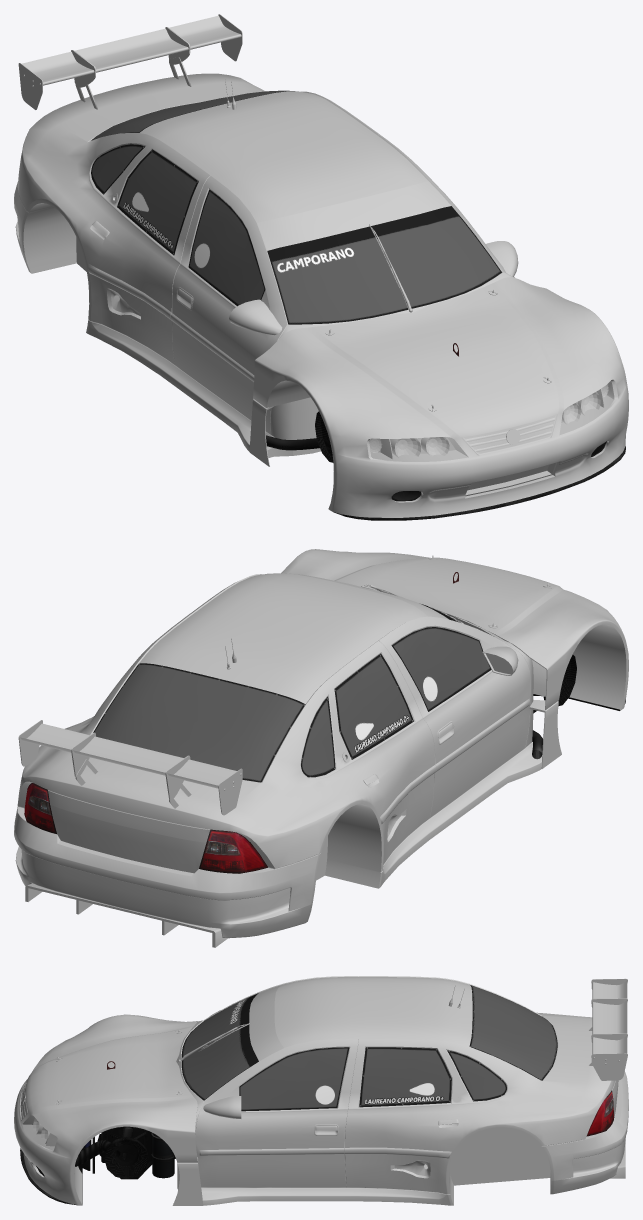
File: Chev.FBX
The picture shows the model from 3 angles, top to bottom: view 1: azimuth 30°, elevation 25°; view 2: azimuth 150°, elevation 25°; view 3: azimuth 270°, elevation 25°; orthographic projection. The views are drawn at different scales.
Visible parts, largest first — view 1: Chev_Carbody, Chev_Wing; view 2: Chev_Carbody, Chev_Wing; view 3: Chev_Carbody, Chev_Wing, Susp_L.
Part boxes in pixels (box(x1,y1,x2,y2)): Chev_Carbody: box(14, 73, 628, 520); Chev_Wing: box(18, 14, 242, 109); Chev_Carbody: box(14, 549, 628, 947); Chev_Wing: box(18, 720, 242, 815); Chev_Carbody: box(14, 976, 628, 1205); Chev_Wing: box(589, 978, 627, 1080); Susp_L: box(104, 1126, 148, 1179).
Bounding box in the file's own units: 187 × 131 × 442.
